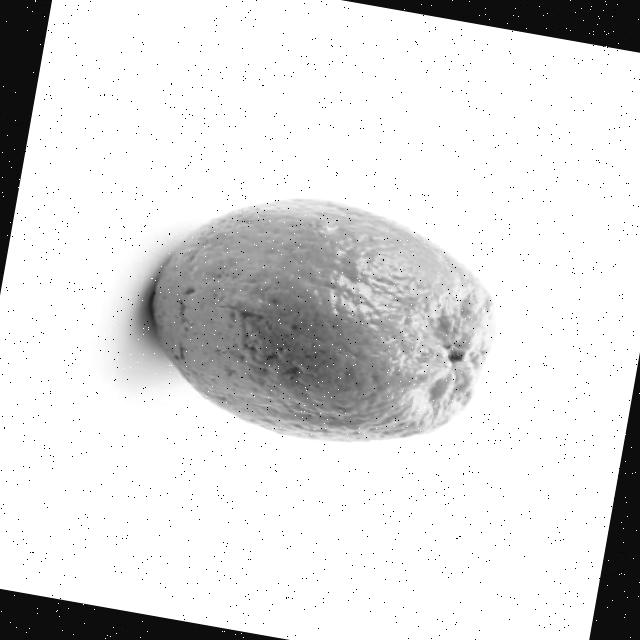overripe: (127, 167, 522, 470)
